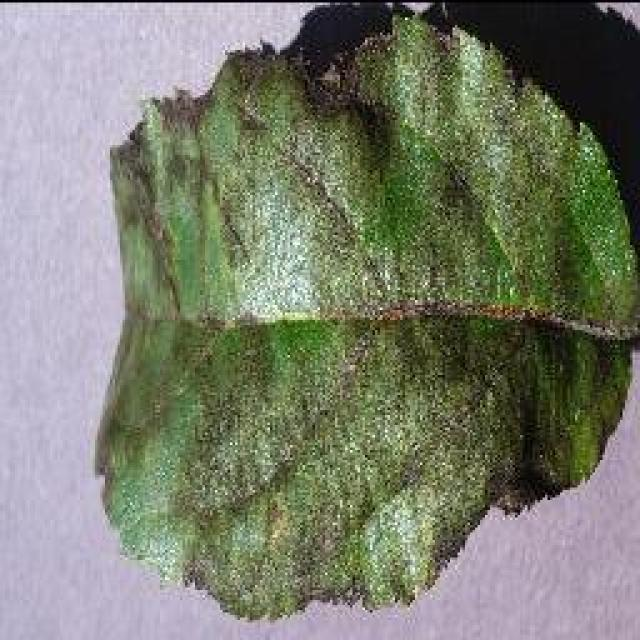apple scab disease: (90, 2, 638, 622)
